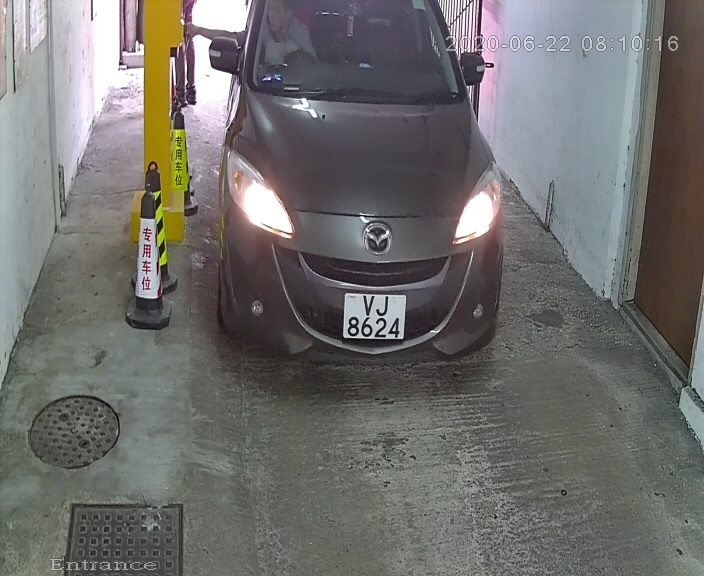privatecar: (194, 9, 541, 394)
